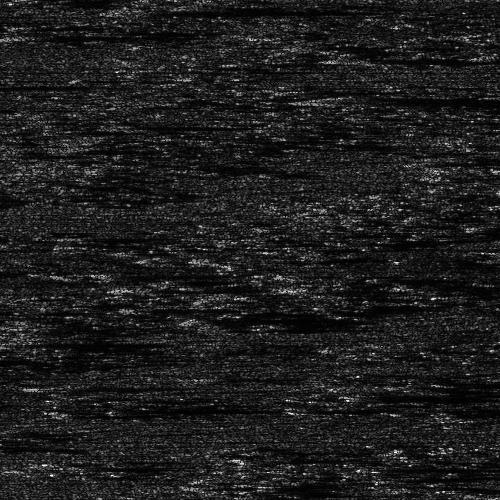object: (267, 91, 392, 108), (56, 4, 201, 15), (93, 283, 208, 294), (169, 371, 262, 382), (412, 146, 453, 167), (479, 257, 500, 280), (81, 122, 134, 129), (0, 338, 52, 345), (27, 383, 68, 390), (0, 34, 25, 37)
shadow: (329, 91, 500, 108), (129, 4, 333, 15), (433, 146, 500, 167), (151, 283, 258, 294), (21, 338, 166, 345), (215, 371, 297, 382), (48, 383, 160, 390), (108, 122, 205, 129), (0, 82, 132, 87), (5, 34, 164, 37)
